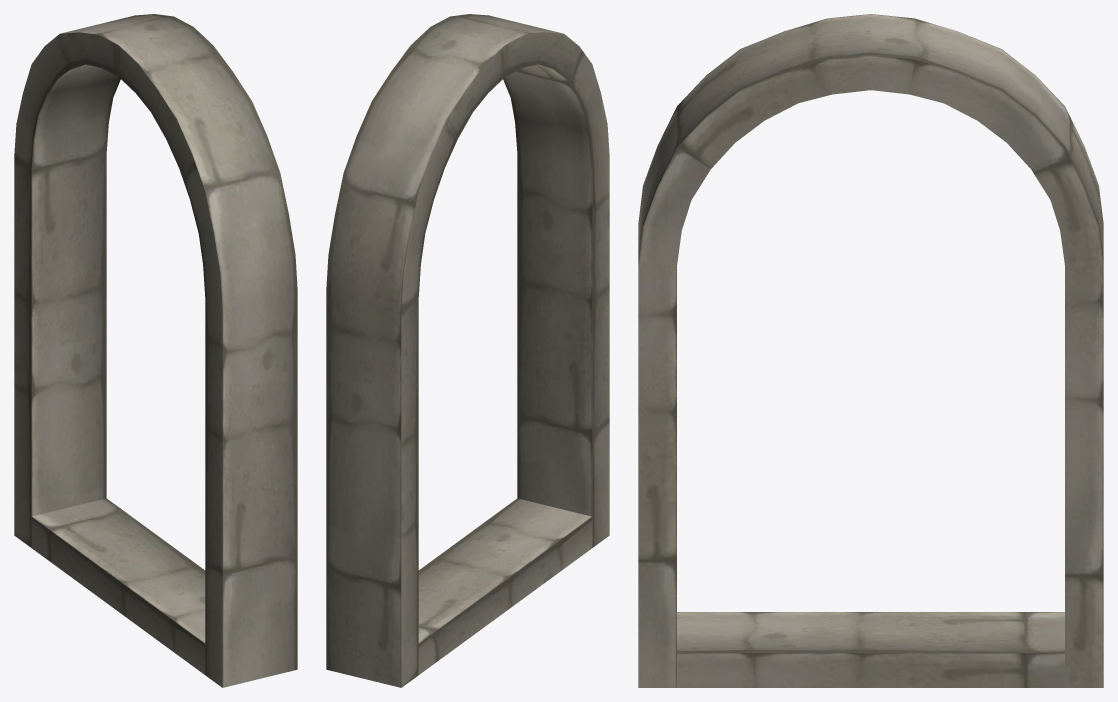
3 renders of one model, left to right at view 1: azimuth 30°, elevation 25°; view 2: azimuth 150°, elevation 25°; view 3: azimuth 270°, elevation 25°, orthographic. The views are drawn at different scales.
Visible parts, largest first — view 1: body0_model0_lod0_mesh0; view 2: body0_model0_lod0_mesh0; view 3: body0_model0_lod0_mesh0.
Part boxes in pixels (x1=…): body0_model0_lod0_mesh0: x1=14, y1=14, x2=297, y2=687; body0_model0_lod0_mesh0: x1=326, y1=14, x2=609, y2=687; body0_model0_lod0_mesh0: x1=638, y1=14, x2=1103, y2=687.
Bounding box in the file's own units: 20 × 144 × 96.01.
1 material, 1 textured.
